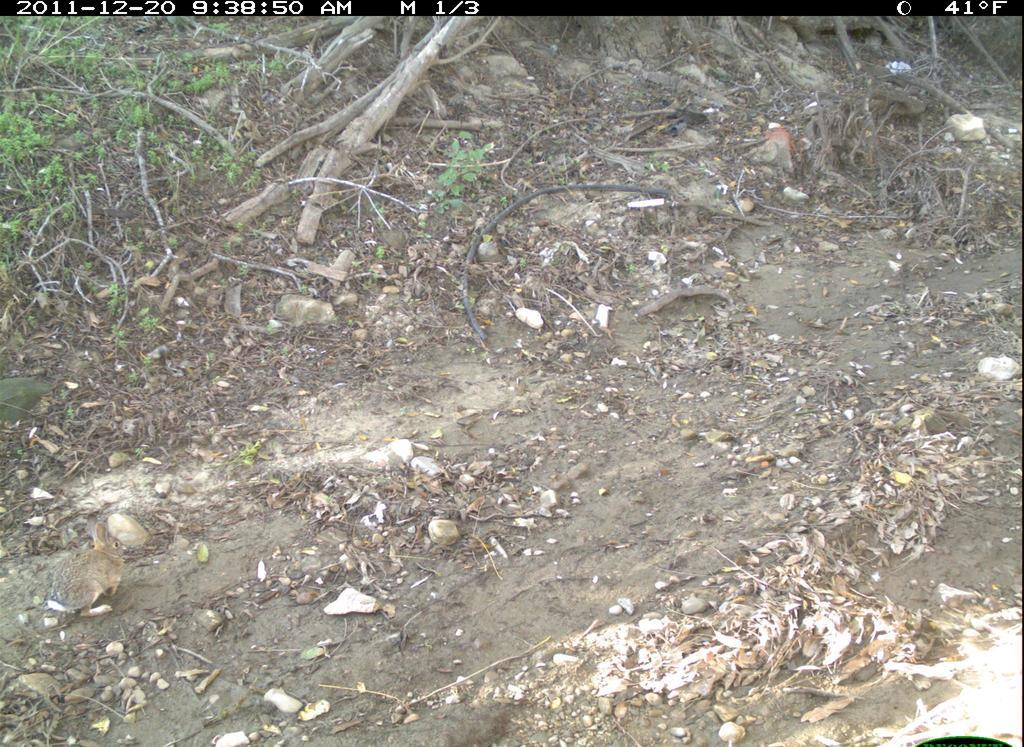rabbit: (43, 517, 137, 631)
